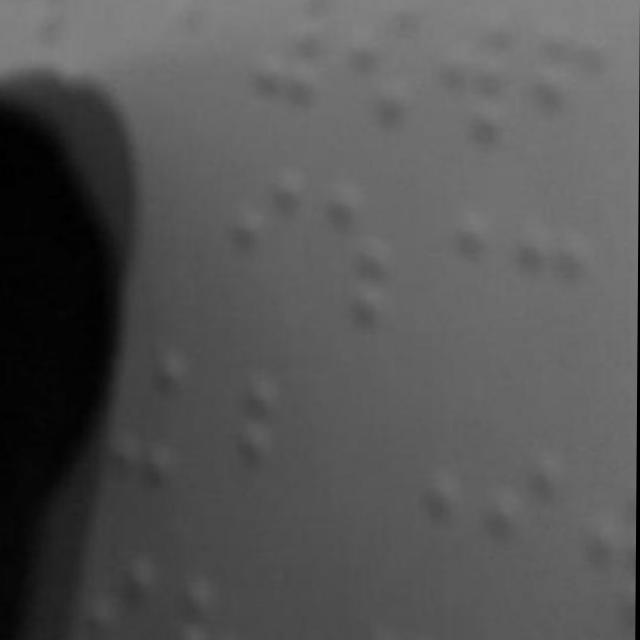braiile: (464, 434, 556, 601), (189, 362, 277, 526), (552, 462, 637, 622), (366, 409, 451, 569), (506, 214, 593, 368), (227, 152, 304, 312), (337, 0, 425, 137), (430, 5, 513, 150), (315, 178, 391, 334), (411, 204, 491, 348), (531, 17, 611, 157), (252, 0, 330, 107), (163, 1, 243, 92)
